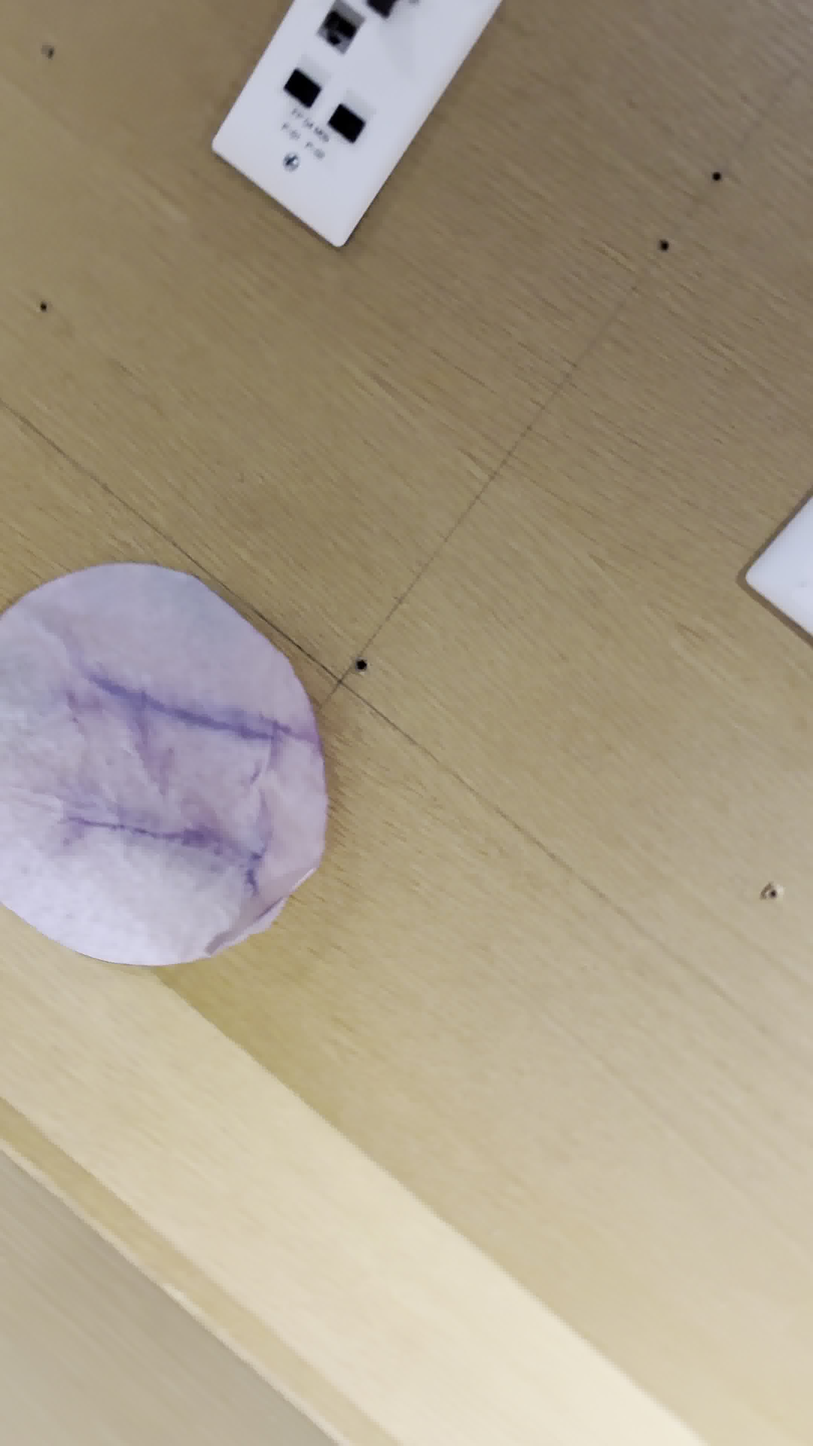Target: (0, 560, 329, 967)
